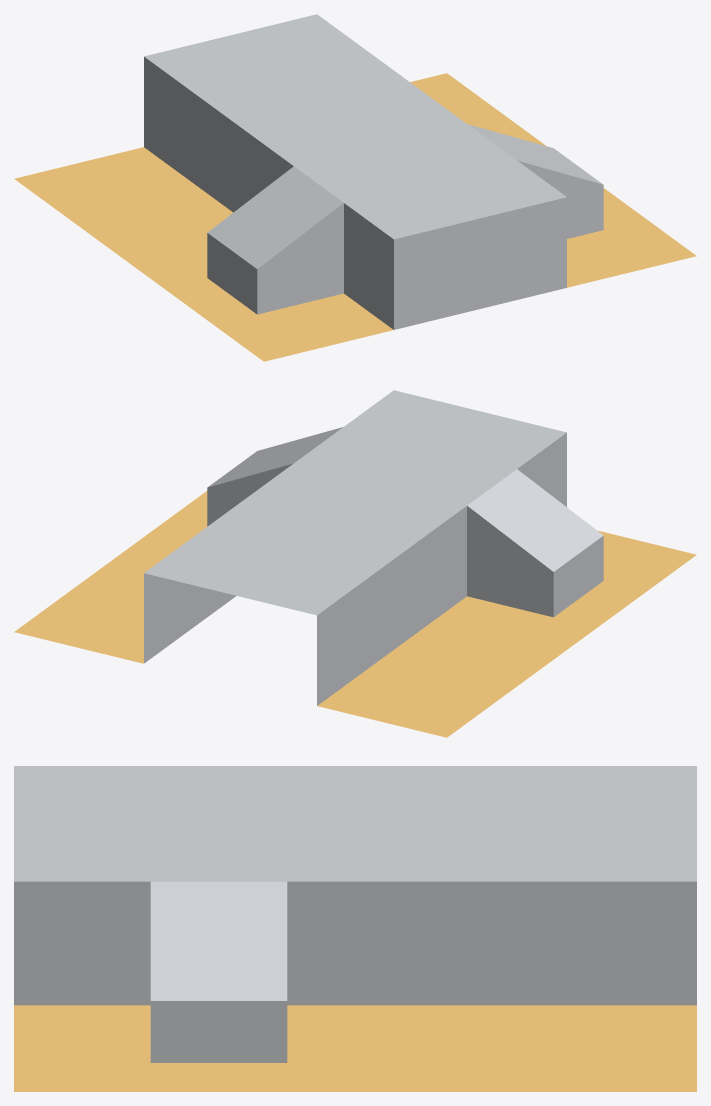
3 views of the same model, one above another, from view 1: azimuth 30°, elevation 25°; view 2: azimuth 150°, elevation 25°; view 3: azimuth 270°, elevation 25° (orthographic). The views are drawn at different scales.
Bounding box in the file's own units: 1 × 0.2 × 1.
